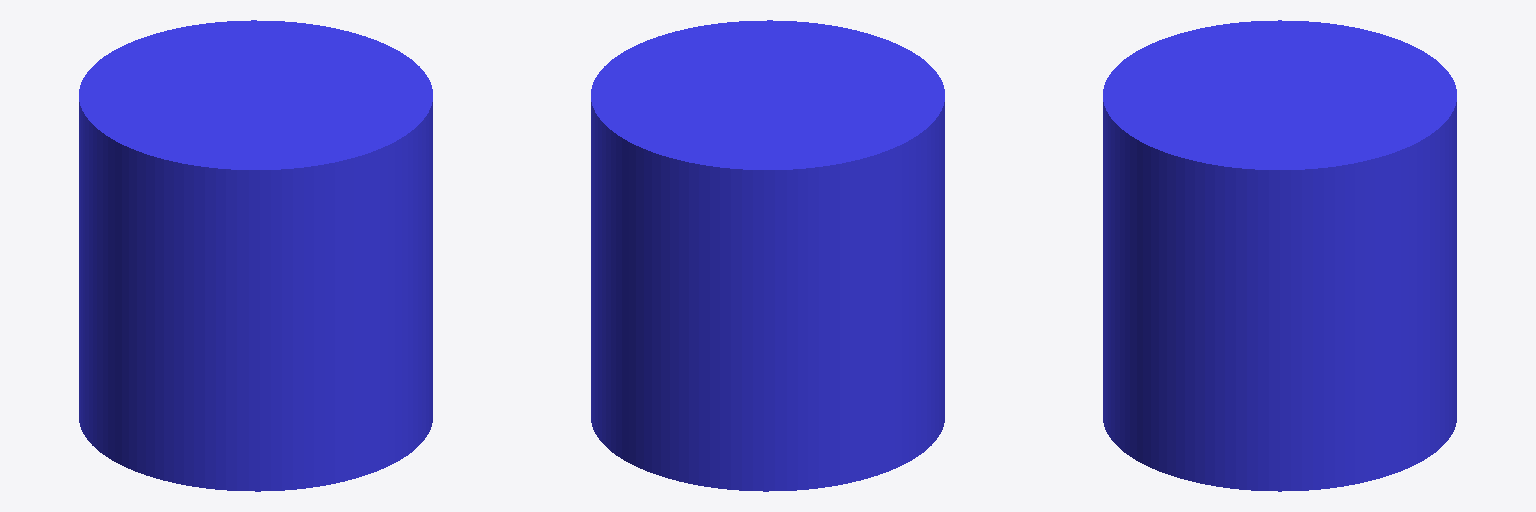
The robot description file, URDF, robot "cylinder.urdf":
<?xml version="0.0" ?>
<robot name="cylinder.urdf">
  <link name="baseLink">
    <contact>
      <lateral_friction value="1.0"/>
      <rolling_friction value="0.0001"/>
      <inertia_scaling value="3.0"/>
    </contact>
    <inertial>
      <origin rpy="0 0 0" xyz="0 0 0"/>
       <mass value="5"/>
       <inertia ixx="1" ixy="0" ixz="0" iyy="1" iyz="0" izz="1"/>
    </inertial>
    <visual>
      <origin rpy="0 0 0" xyz="0 0 0"/>
      <geometry>
        <mesh filename="cylinder.stl"/>
      </geometry>
      <material name="red">
        <color rgba="0.3 0.3 1.0 1"/>
      </material>
    </visual>
    <collision>
      <origin rpy="0 0 0" xyz="0 0 0"/>
      <geometry>
	 	    <cylinder length="1" radius="0.5"/>
      </geometry>
    </collision>
  </link>
</robot>

--- Render facts (derived) ---
The picture shows the robot from 3 angles, left to right: view 1: azimuth 30°, elevation 25°; view 2: azimuth 150°, elevation 25°; view 3: azimuth 270°, elevation 25°; orthographic projection.
Model cylinder.urdf with 1 links and 0 joints (none), rooted at baseLink, posed all joints at 0.
Links seen in each view (by area): view 1: baseLink; view 2: baseLink; view 3: baseLink.
Boxes of the visible links, bbox=[...] form: baseLink: bbox=[79, 20, 432, 491]; baseLink: bbox=[591, 20, 944, 491]; baseLink: bbox=[1103, 20, 1456, 491].
Bounding box of the posed robot: 1 × 1 × 1 m (x, y, z).
1 mesh visuals loaded from 1 distinct referenced files (1 binary STL).